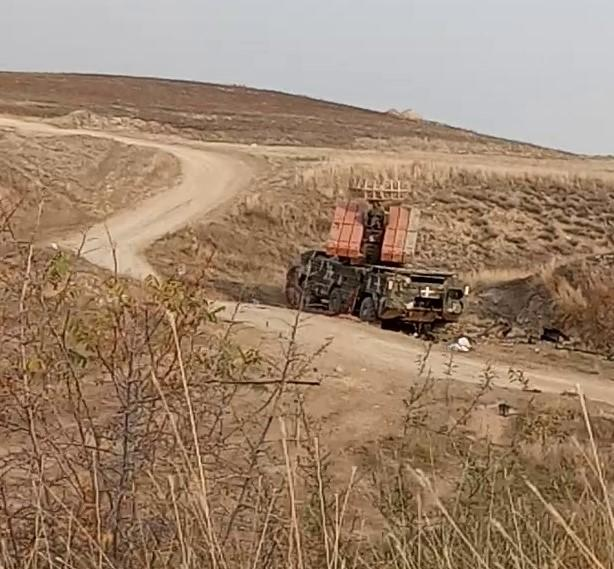MIL_SAM_TEL: (284, 169, 475, 340)
